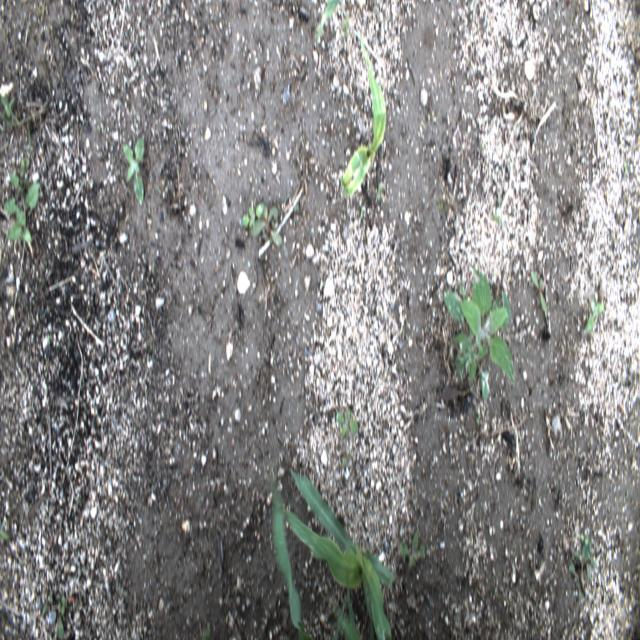crop: (276, 467, 397, 639), (340, 35, 386, 198), (272, 488, 316, 639), (335, 566, 360, 639), (316, 0, 339, 51), (335, 594, 347, 639)
weed: (442, 263, 515, 402), (2, 182, 40, 243), (123, 137, 145, 206), (251, 204, 283, 248), (572, 535, 598, 588), (399, 530, 425, 568), (529, 269, 548, 314), (10, 157, 30, 193), (584, 298, 604, 334), (336, 408, 359, 439), (241, 200, 265, 229), (568, 562, 584, 602), (0, 94, 14, 128), (56, 602, 64, 638), (42, 596, 53, 614), (341, 13, 349, 37), (26, 121, 31, 155), (203, 621, 210, 639), (580, 534, 588, 548), (377, 182, 382, 204), (0, 528, 9, 540), (61, 594, 65, 616), (360, 205, 366, 218)
